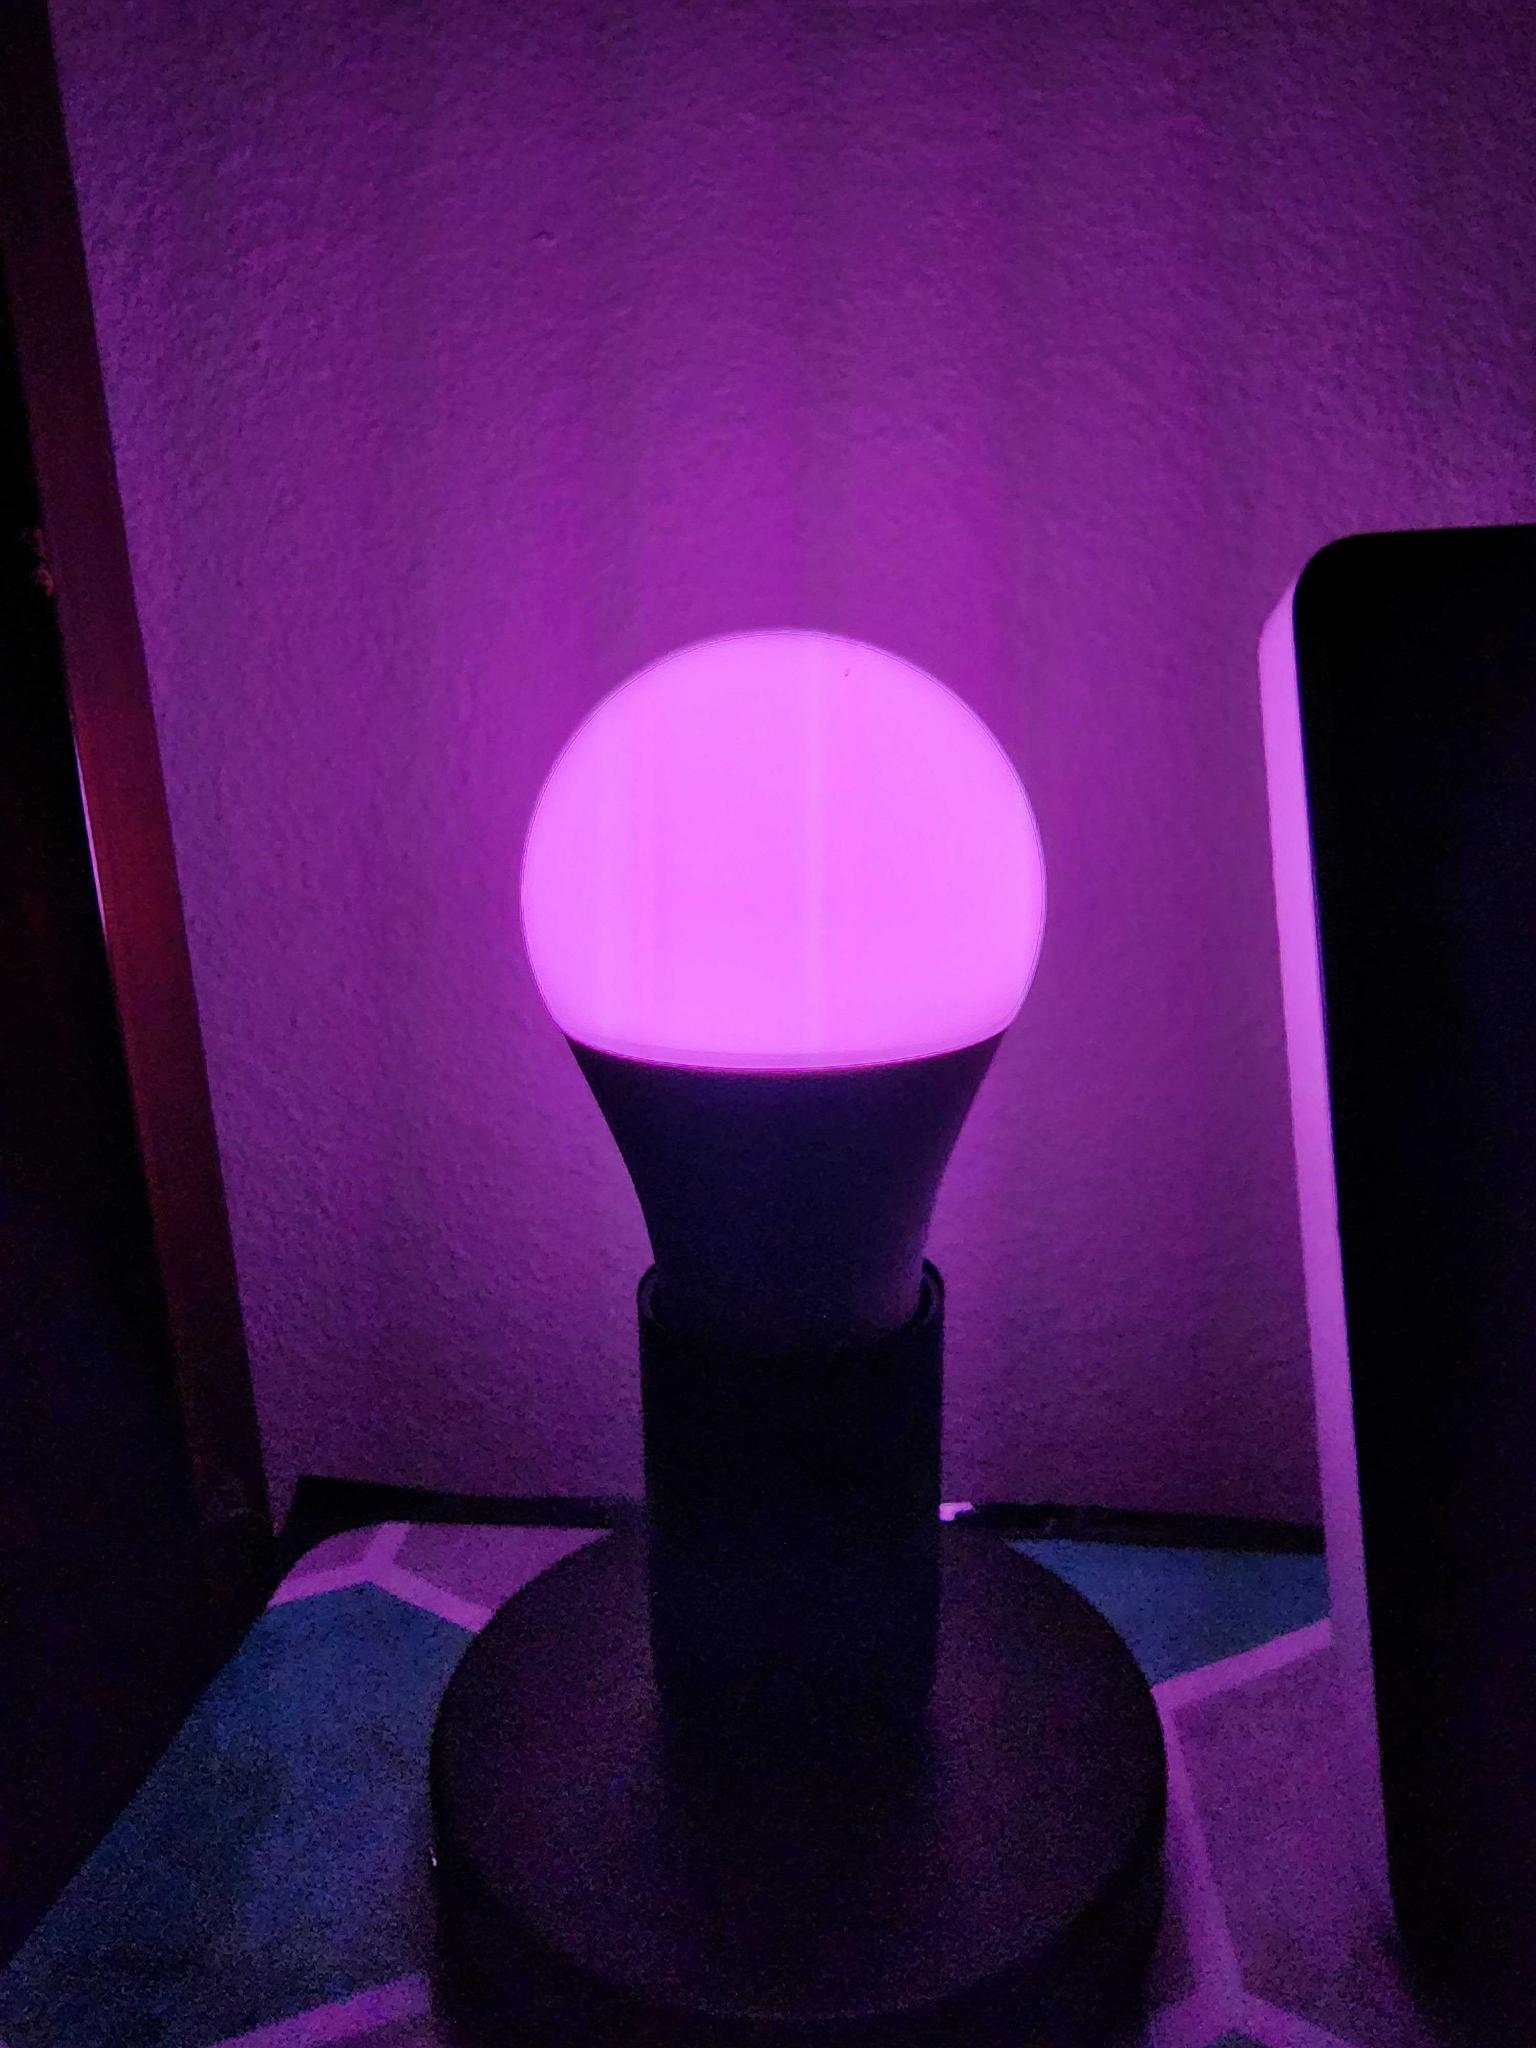TubeLight: (515, 626, 1050, 1503)
